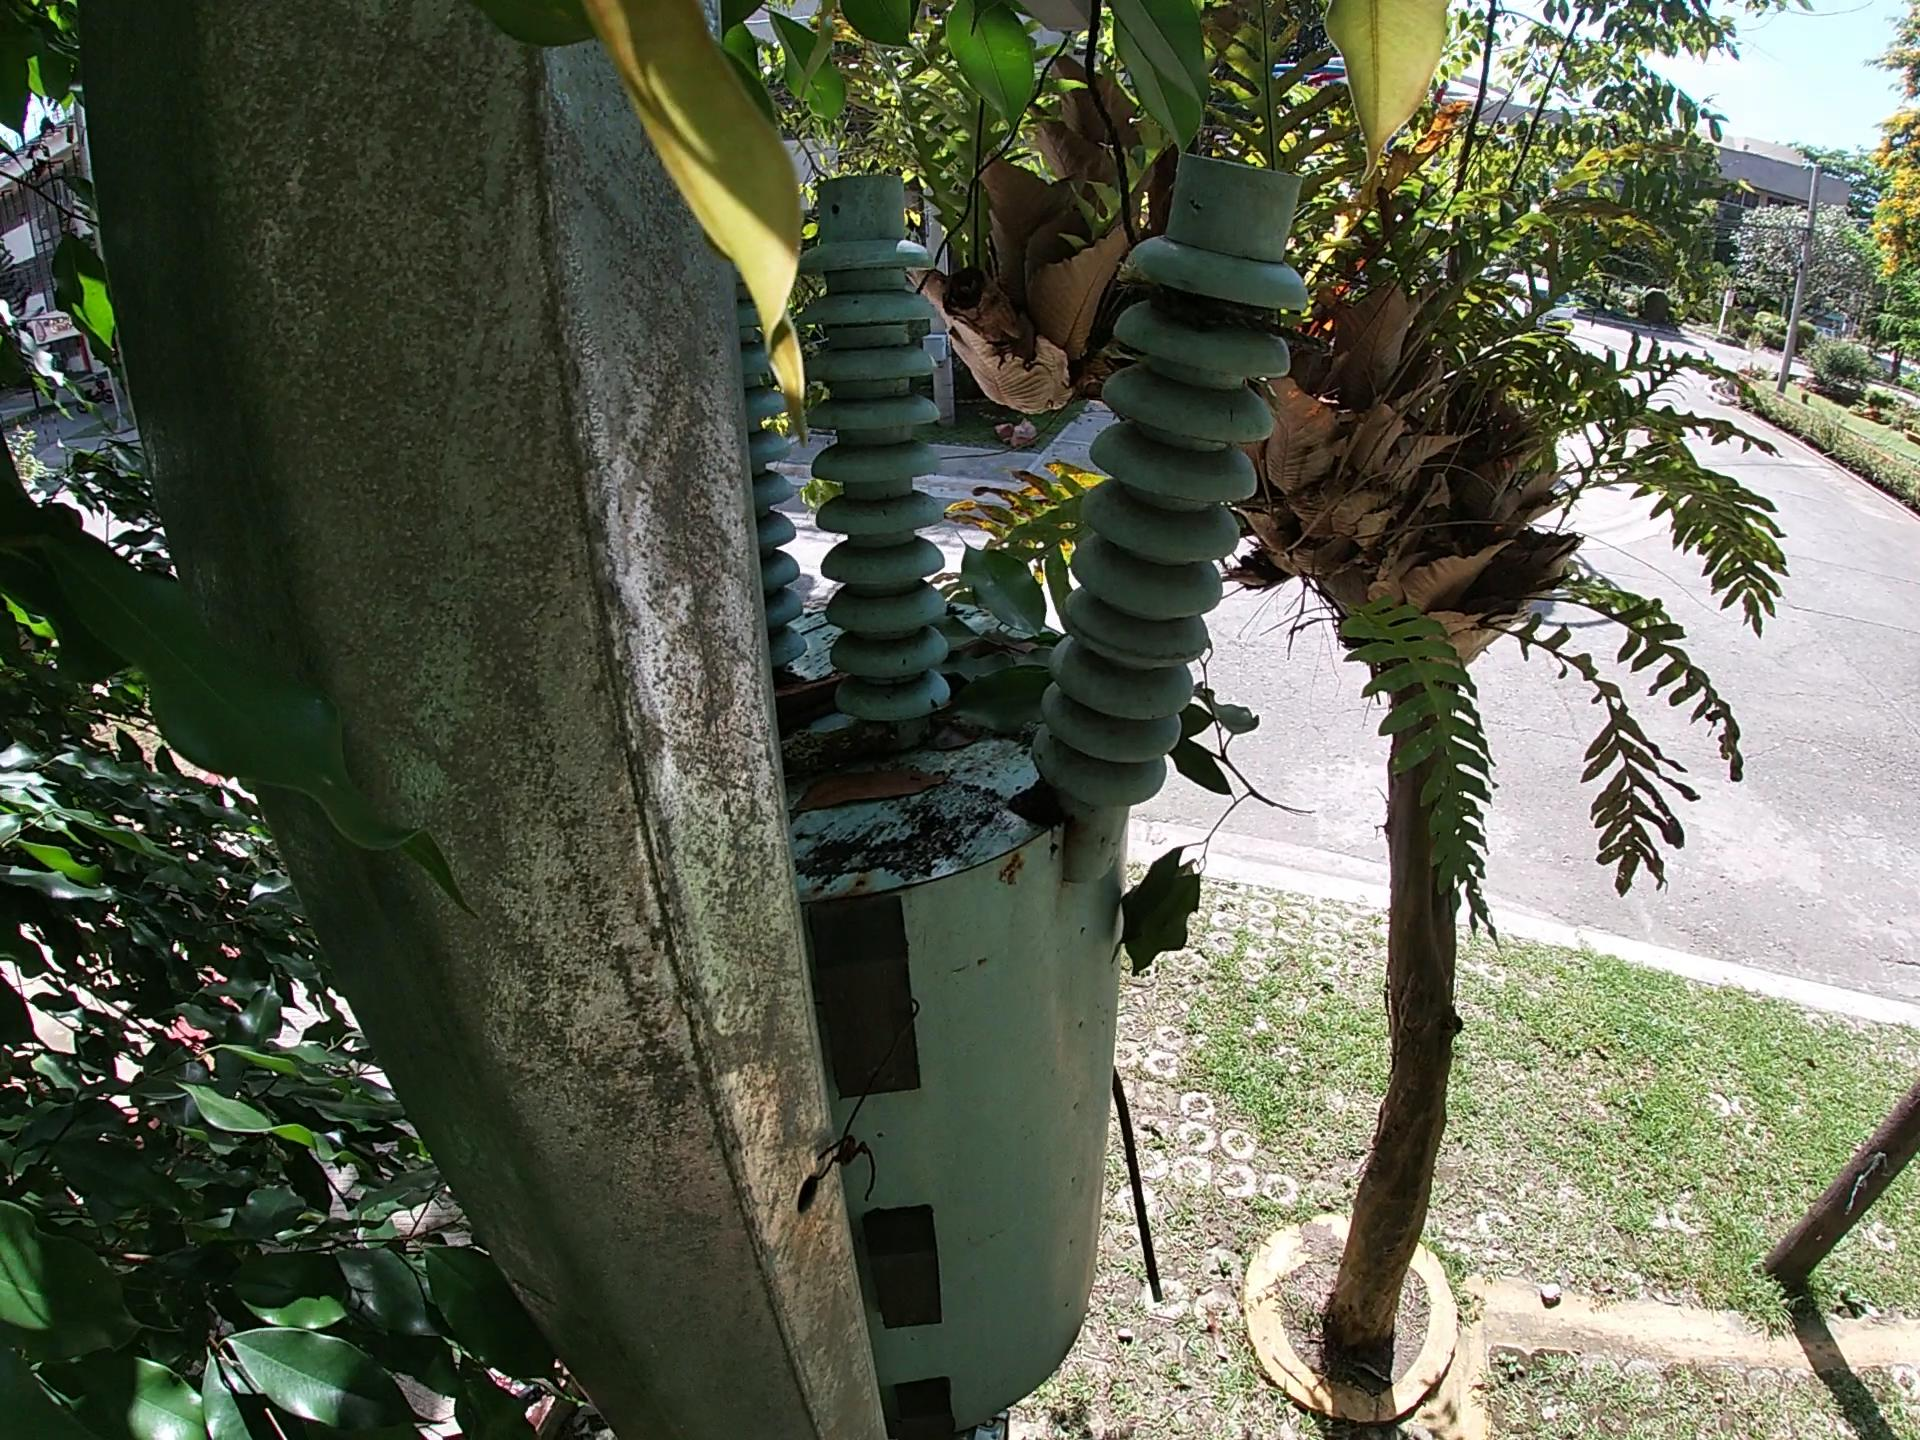branch with leaves: (1113, 638, 1318, 998)
leaf: (945, 534, 1070, 703), (795, 765, 952, 803)
mahogany fruit: (763, 663, 848, 718)
tree branch: (770, 729, 928, 759)
